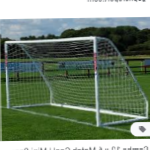goals: (3, 34, 150, 125)
